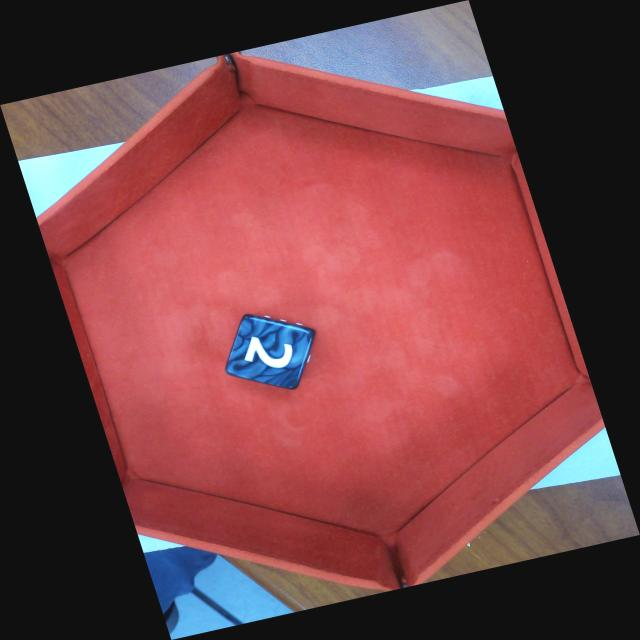dice: (223, 312, 315, 392)
